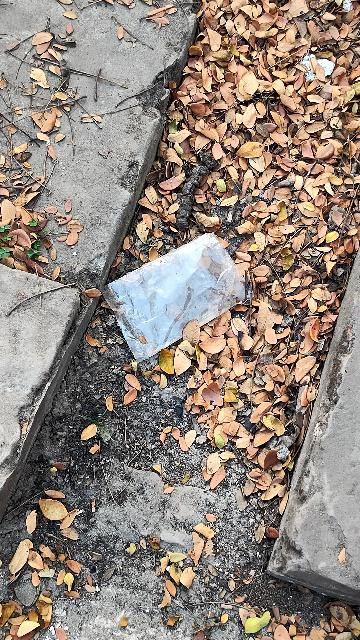polythene: (94, 215, 260, 358)
